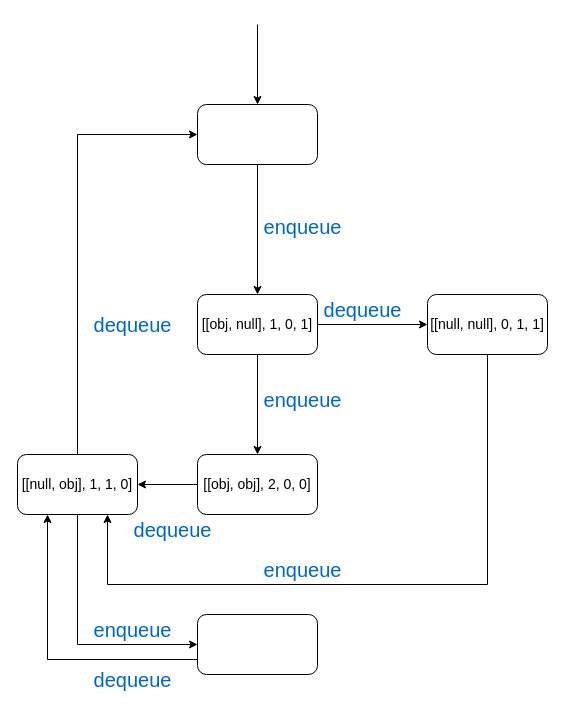
This 565x712 diagram has some shape labels left out. The shapes that lost their labels are listed below. From the top down, each one's centre as x and y in pixels, then its label:
(x=257, y=134): [[null, null], 0, 0, 0]
(x=257, y=644): [[obj, obj], 2, 1, 1]
